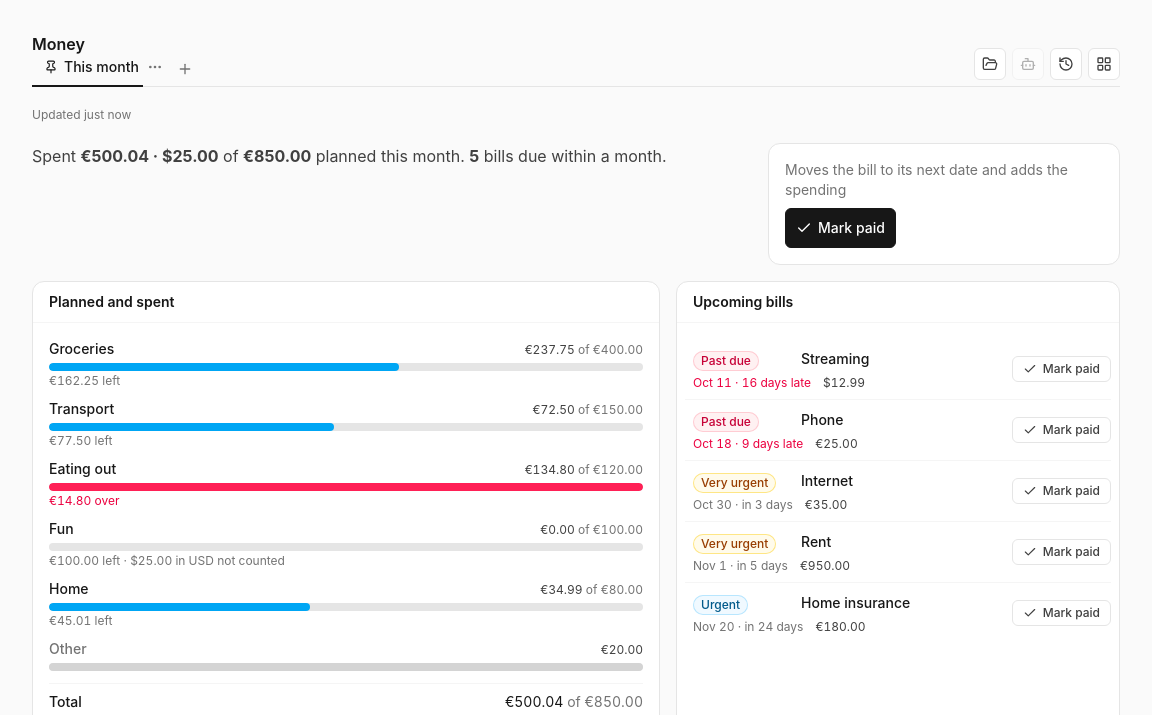
ProjectPage › acting in place (R10.13) › every block updates after Mark paid, and the toast undoes it
Click the button with aria-label "Mark paid: Rent": x=1061, y=552 [1012,539,1111,565]
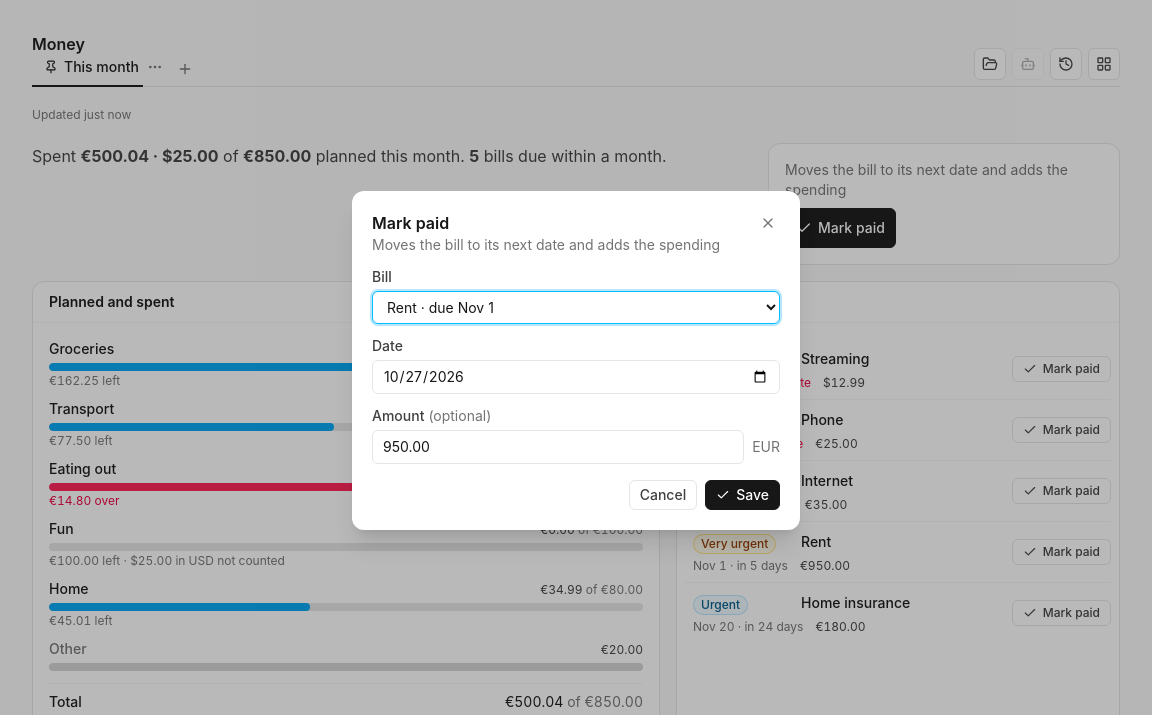
Click the button "Save": x=743, y=494 [705,480,780,510]
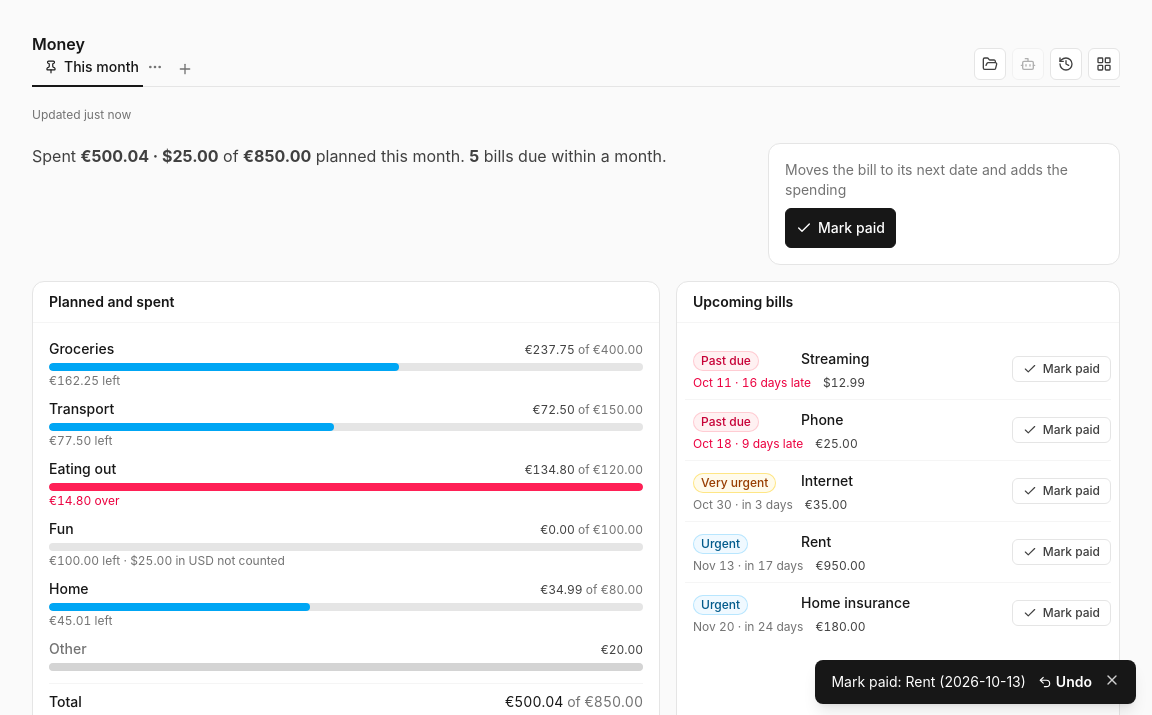
expect the message shows "Mark paid: Rent": met, box [831,673,1026,690]
Undo after someone changed it again: a plain conflict note pointing at History.
Click the button "Undo": x=1065, y=682 [1038,672,1092,692]
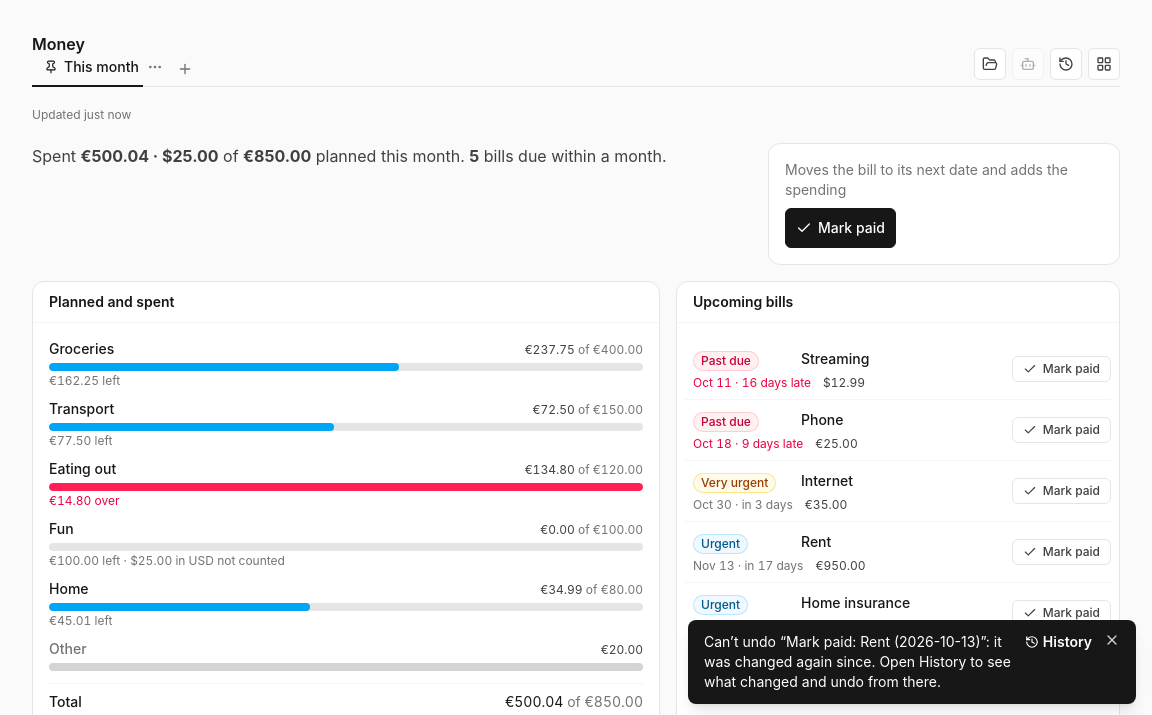
expect the message shows "Can’t undo": met, box [704,633,1011,690]
expect the button "History" is shown: met, box [1025,632,1092,652]
